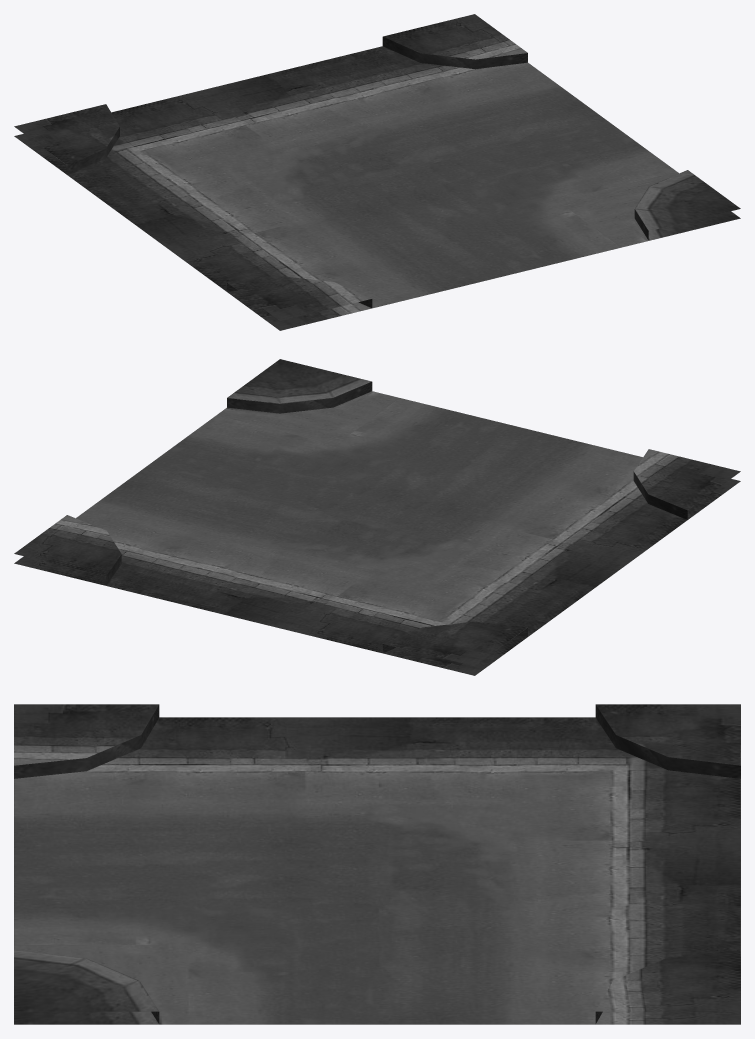
File: road.obj
3 renders of one model, top to bottom at view 1: azimuth 30°, elevation 25°; view 2: azimuth 150°, elevation 25°; view 3: azimuth 270°, elevation 25°, orthographic. The views are drawn at different scales.
Parts seen in each view (by area): view 1: group; view 2: group; view 3: group.
Boxes of the visible parts, x1=… form: group: x1=14, y1=14, x2=740, y2=330; group: x1=14, y1=359, x2=740, y2=675; group: x1=14, y1=704, x2=740, y2=1024.
Bounding box in the file's own units: 10 × 0.2 × 10.
